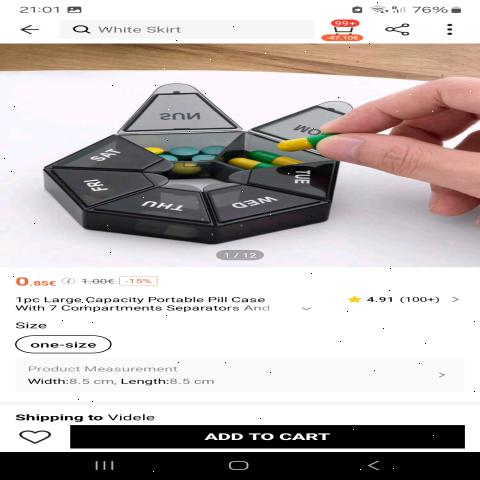PillBox: (38, 84, 362, 241)
